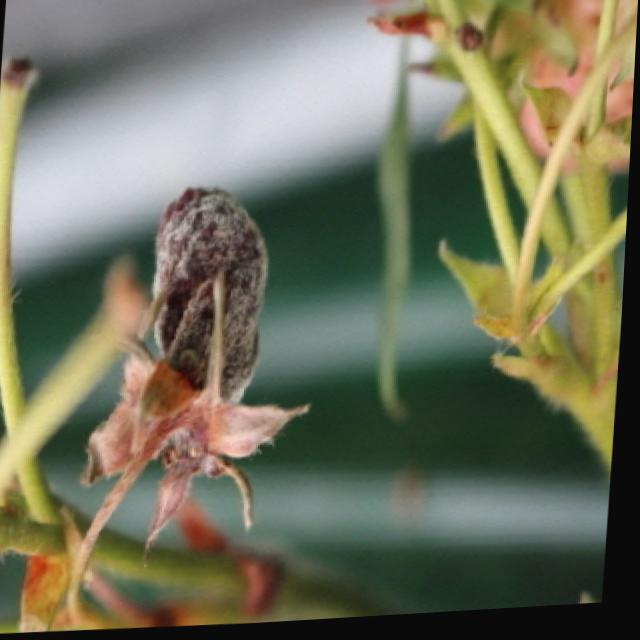Gray Mold: (87, 186, 313, 553)
